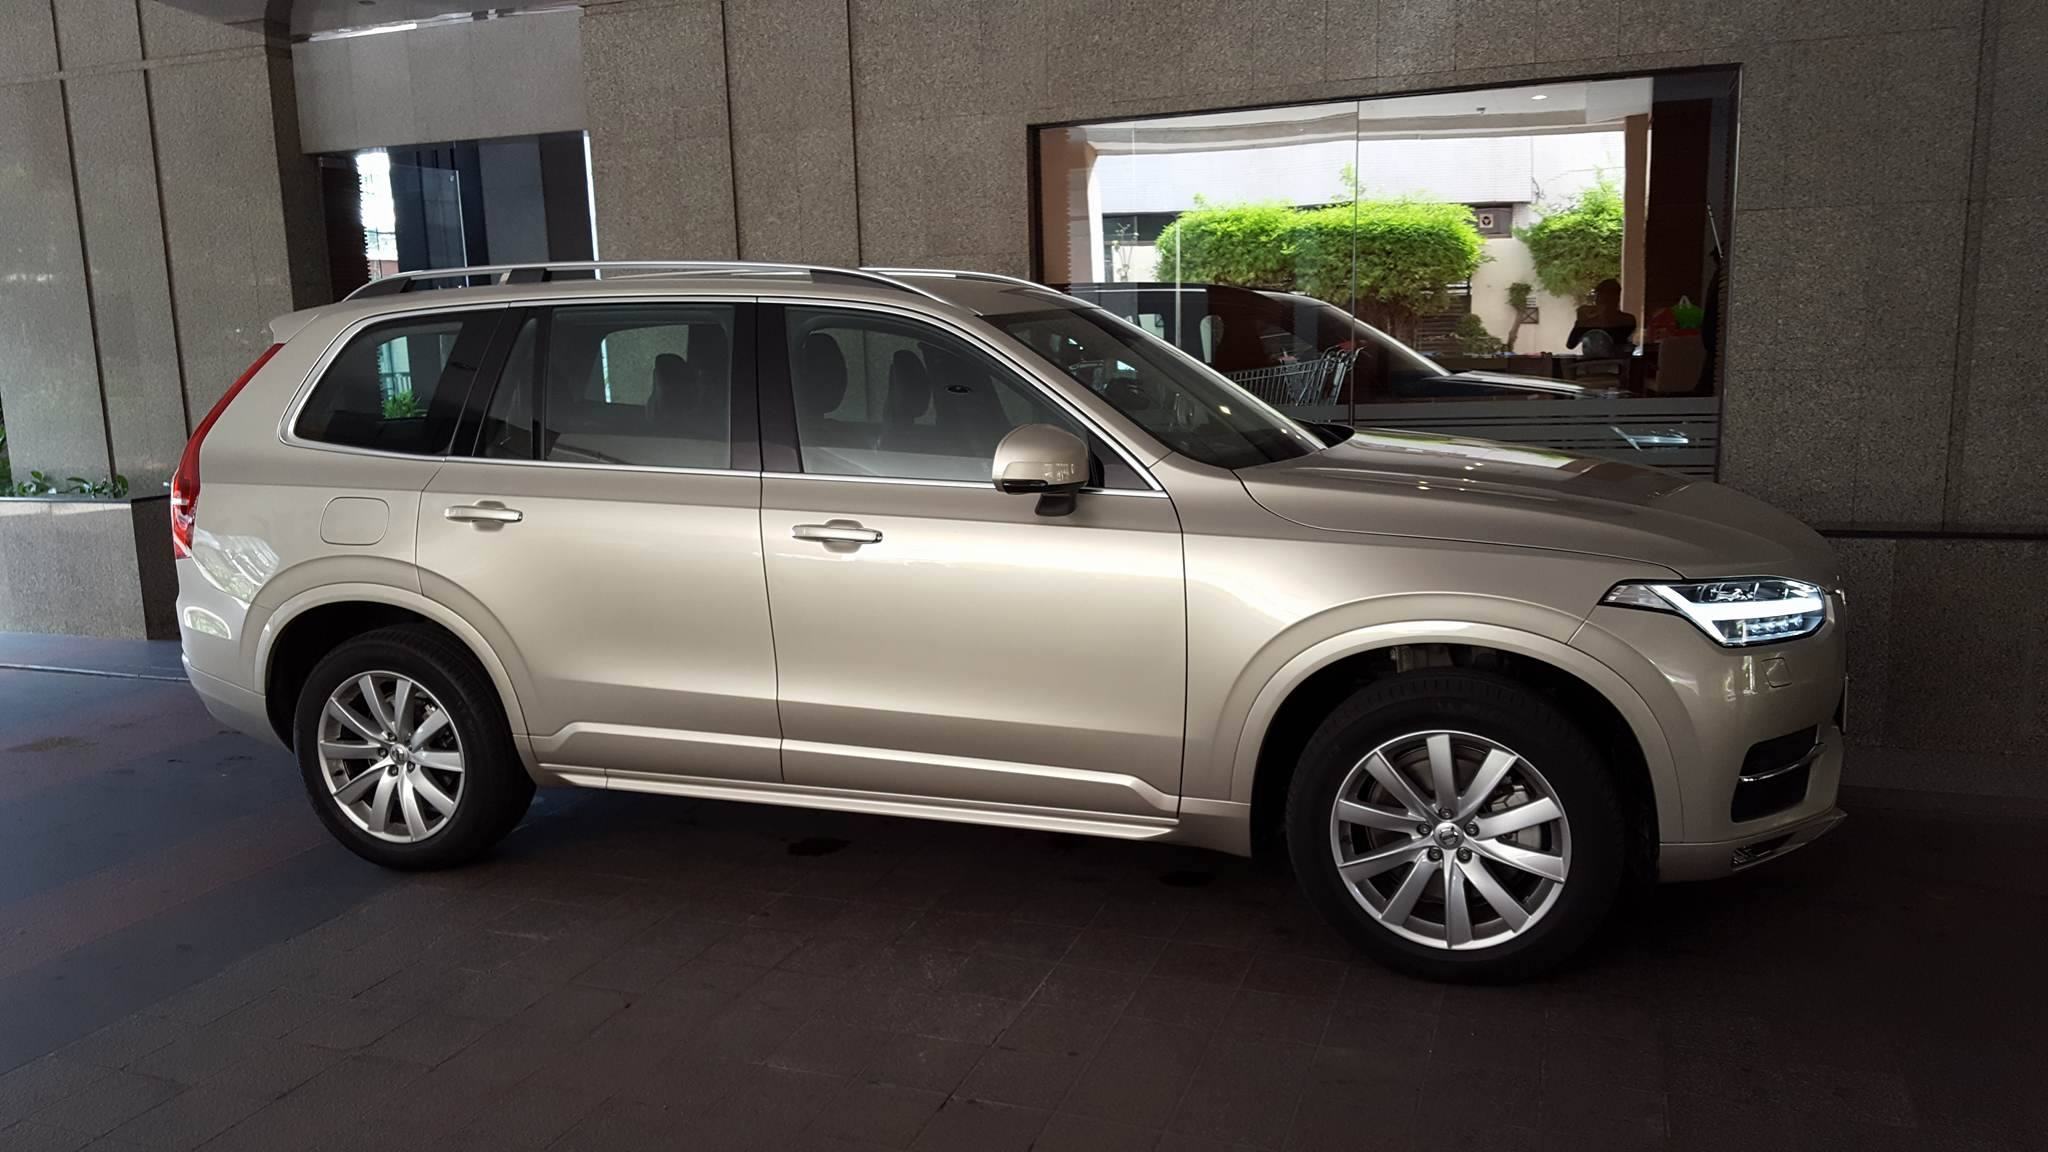pickup: (167, 264, 1860, 987)
